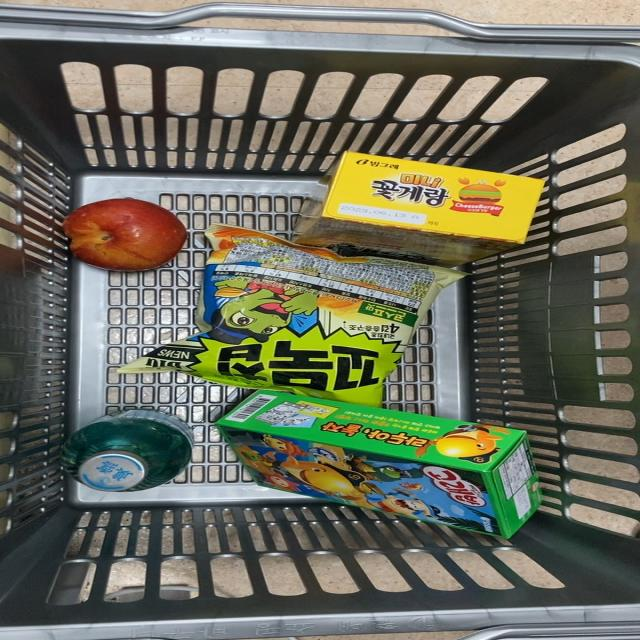ggobukchip: (172, 224, 430, 403)
goraebob: (205, 394, 537, 538)
jinro: (48, 410, 204, 500)
minicrab: (299, 148, 550, 260)
plum: (56, 196, 194, 275)
